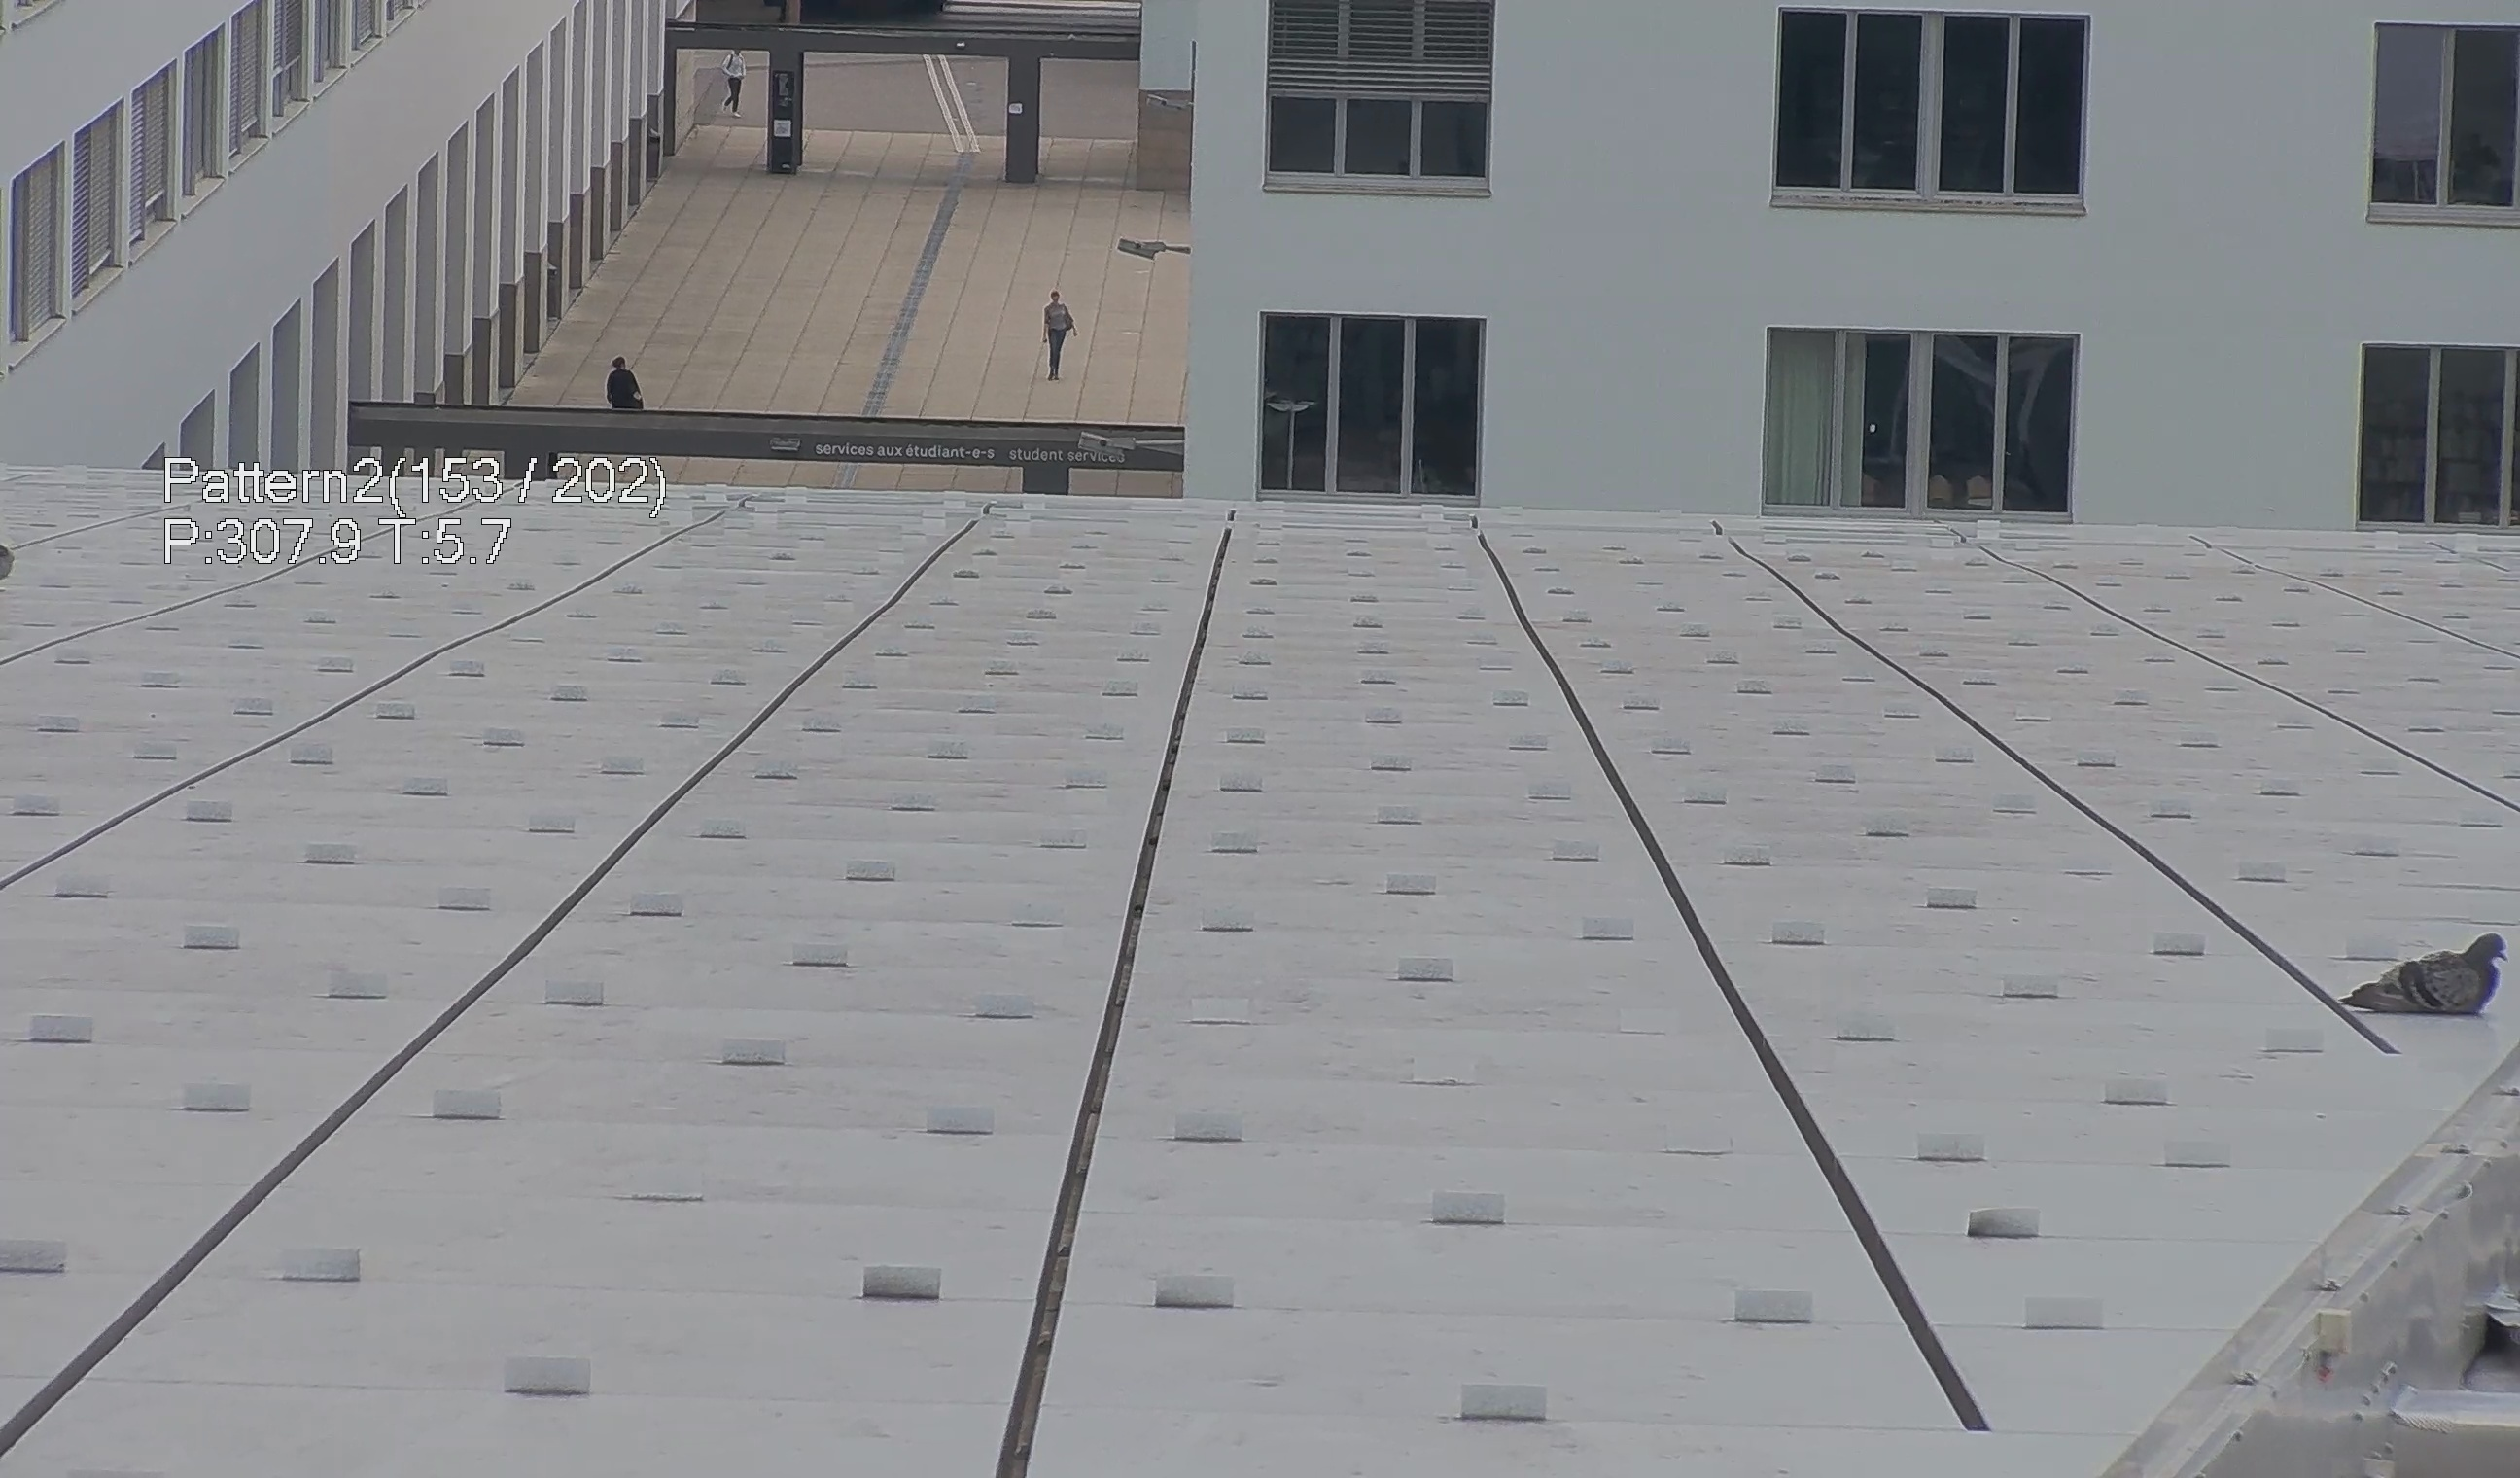Pigeon: (2342, 927, 2520, 1038)
